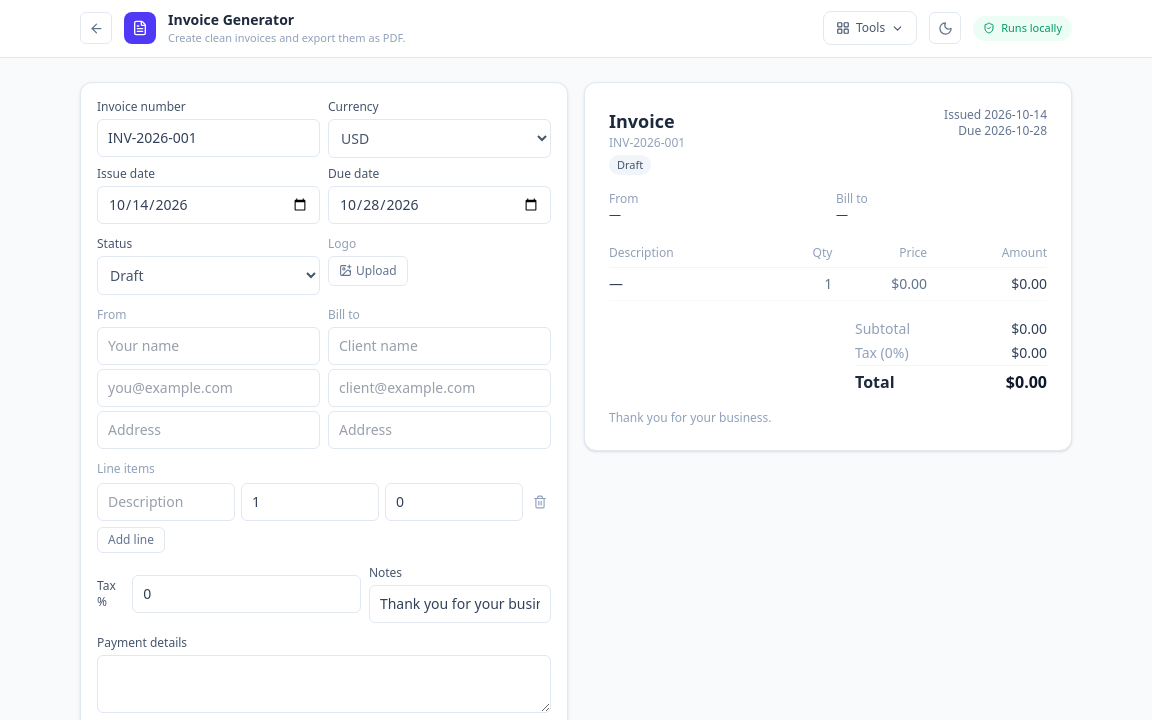
Test: InvoiceApp › calculates the total from line items
Step 1. Type "Consulting" into the field named "Item description" → (166, 502), box [97,482,235,520]
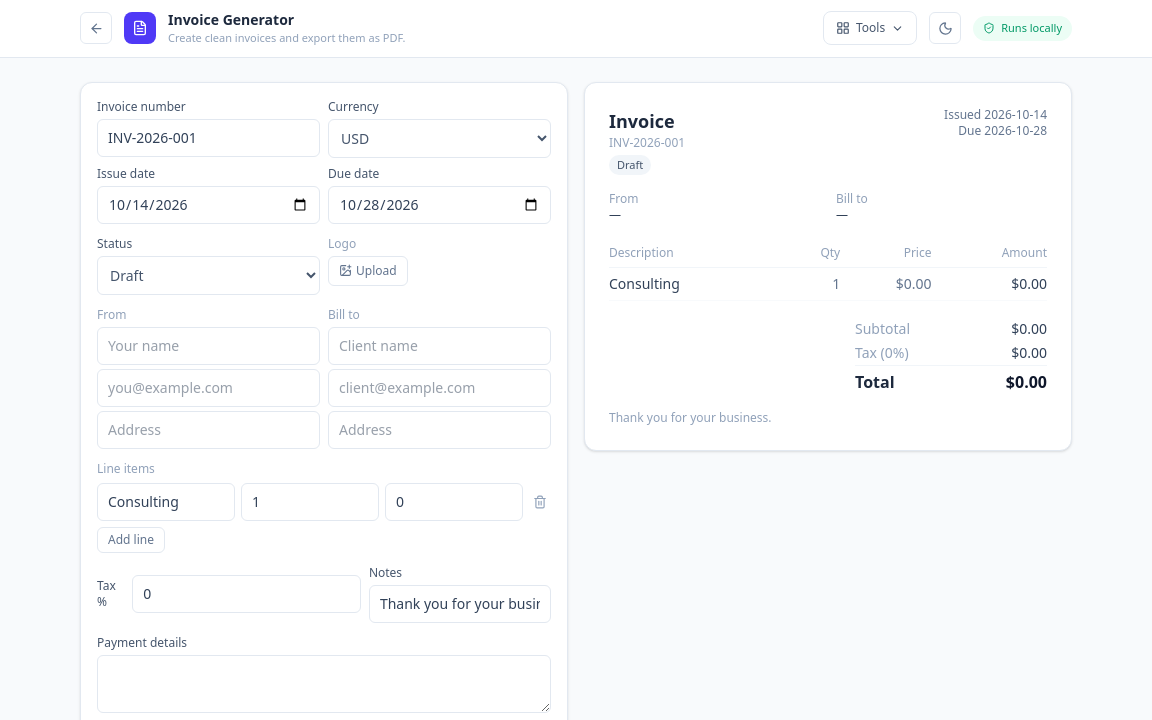
Step 2. Replace the text in the number field named "Item quantity" with "2" → (310, 502), box [241,482,379,520]
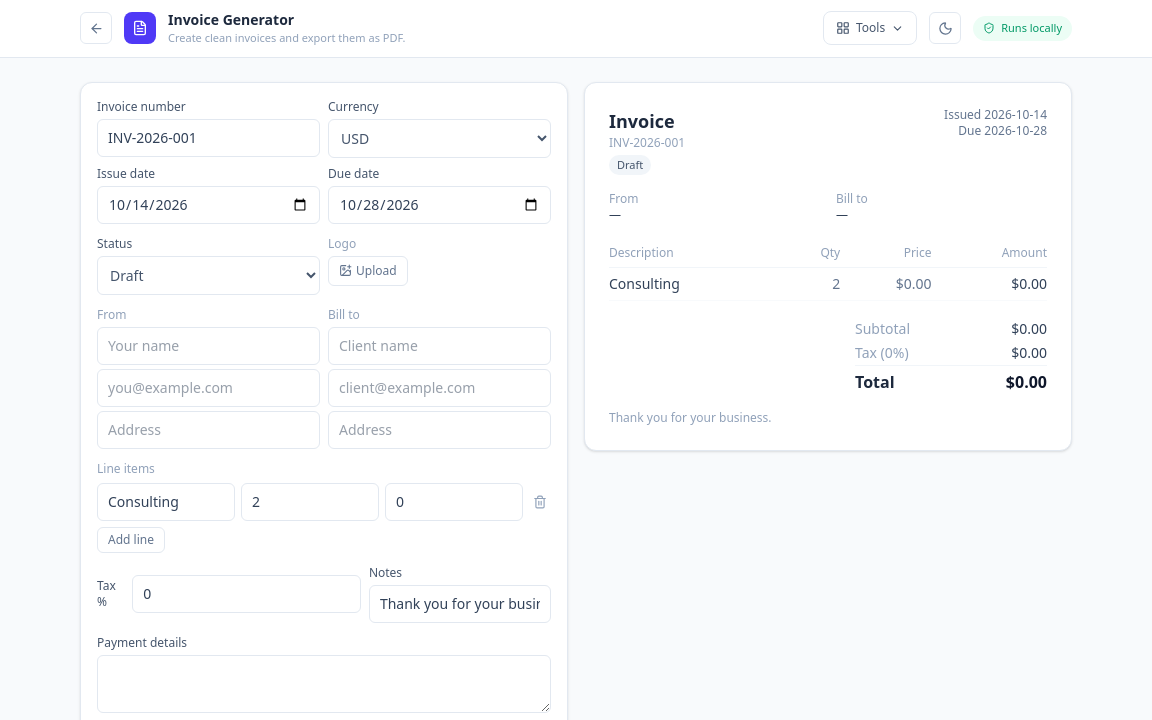
Step 3. Replace the text in the number field named "Item unit price" with "100" → (454, 502), box [385,482,523,520]
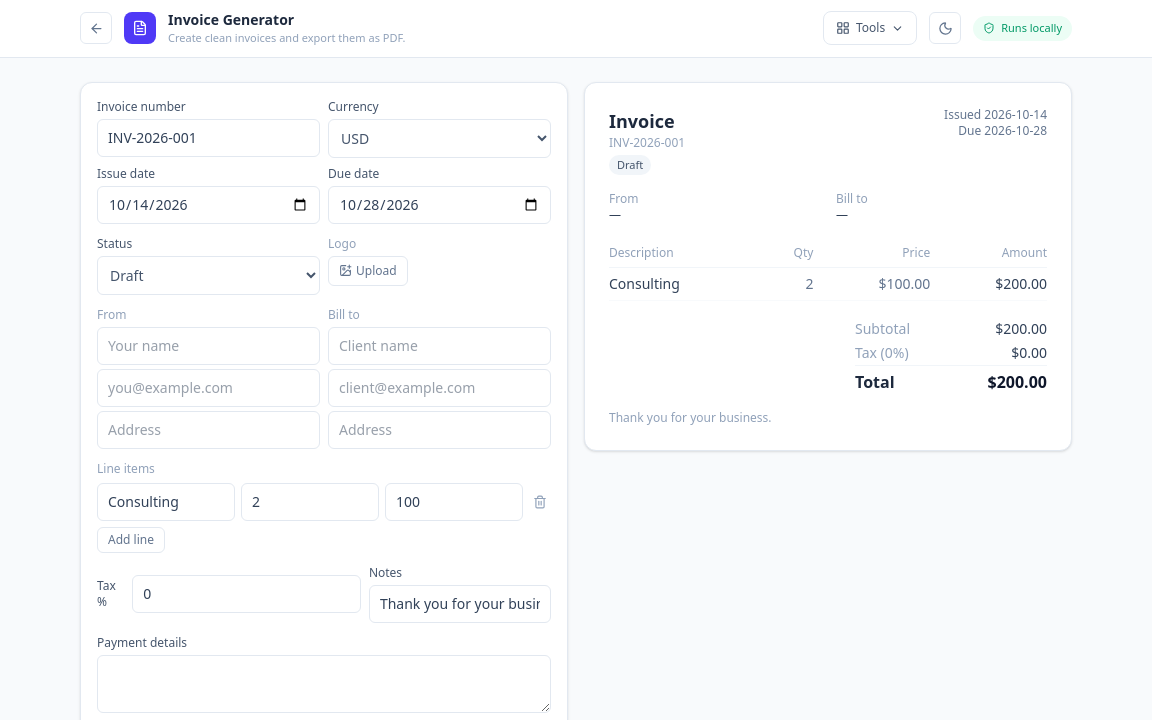
Now the text "$200.00" is shown, box [930,268,1047,300]
